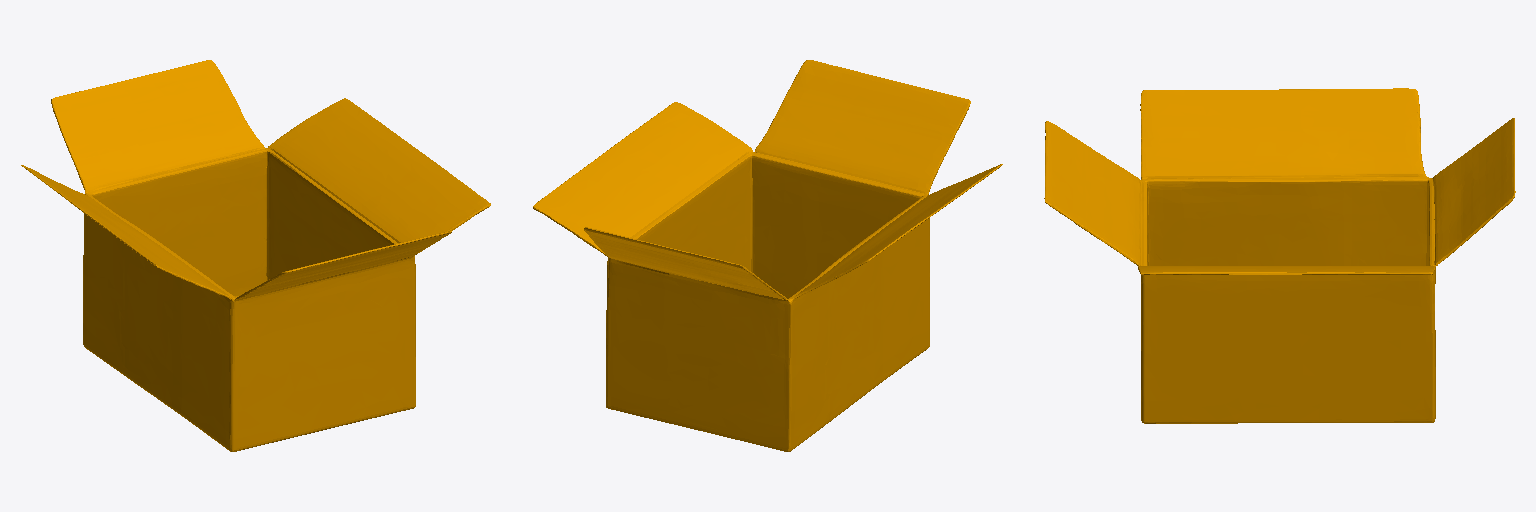
The robot description file, URDF, robot "sample":
<?xml version="1.0" ?>
<robot name="sample">
   <link name="sample">
      <visual>
         <origin xyz="0 0 0" rpy="1.5708 0.0 0.0"/>
         <geometry>
            <mesh filename="mesh/sample.obj" scale="1.0 1.0 1.0"/>
         </geometry>
      </visual>
      <collision>
         <origin xyz="0 0 0" rpy="1.5708 0.0 0.0"/>
         <geometry>
            <mesh filename="mesh/sample_collision.obj" scale="1.0 1.0 1.0"/>
         </geometry>
         <gazebo>
            <mu1>0.40</mu1>
            <mu2>0.30</mu2>
         </gazebo>
      </collision>
      <inertial>
         <mass value="0.7500"/>
         <origin xyz="0 0 0"/>
         <inertia ixx="1.0" ixy="0.0" ixz="0.0" iyy="1.0" iyz="0.0" izz="1.0"/>
      </inertial>
      <extra_info>
         <scale>0.583422</scale>
         <version>v0.1.7</version>
         <category>box</category>
         <description>open cardboard box with flaps extended</description>
         <min_height>0.2</min_height>
         <max_height>0.4</max_height>
         <real_height>0.3</real_height>
         <min_mass>0.5</min_mass>
         <max_mass>1.0</max_mass>
         <generate_time>20260402172128</generate_time>
         <gs_model>mesh/sample_gs.ply</gs_model>
      </extra_info>
   </link>
   <custom_data>
      <quality>
         <MeshGeoChecker>YES</MeshGeoChecker>
         <ImageSegChecker>NO, background artifacts and incomplete edges suggest poor segmentation.</ImageSegChecker>
         <ImageAestheticChecker>4.366882920265198</ImageAestheticChecker>
         <overall>NO</overall>
      </quality>
   </custom_data>
</robot>

--- What the picture shows (computed from the rendered views, not written in the file) ---
The picture shows the robot from 3 angles, left to right: view 1: azimuth 30°, elevation 25°; view 2: azimuth 150°, elevation 25°; view 3: azimuth 270°, elevation 25°; orthographic projection.
Model sample with 1 links and 0 joints (none), rooted at sample, posed every joint at zero.
Links seen in each view (by area): view 1: sample; view 2: sample; view 3: sample.
Link boxes in pixels (box(x1,y1,x2,y2)): sample: box(21, 60, 490, 451); sample: box(533, 60, 1002, 451); sample: box(1044, 88, 1515, 423).
Size in the robot's own frame: 0.4824 by 0.5834 by 0.3 metres.
Meshes: 1 distinct files referenced, 1 mesh visuals loaded (1 OBJ).
